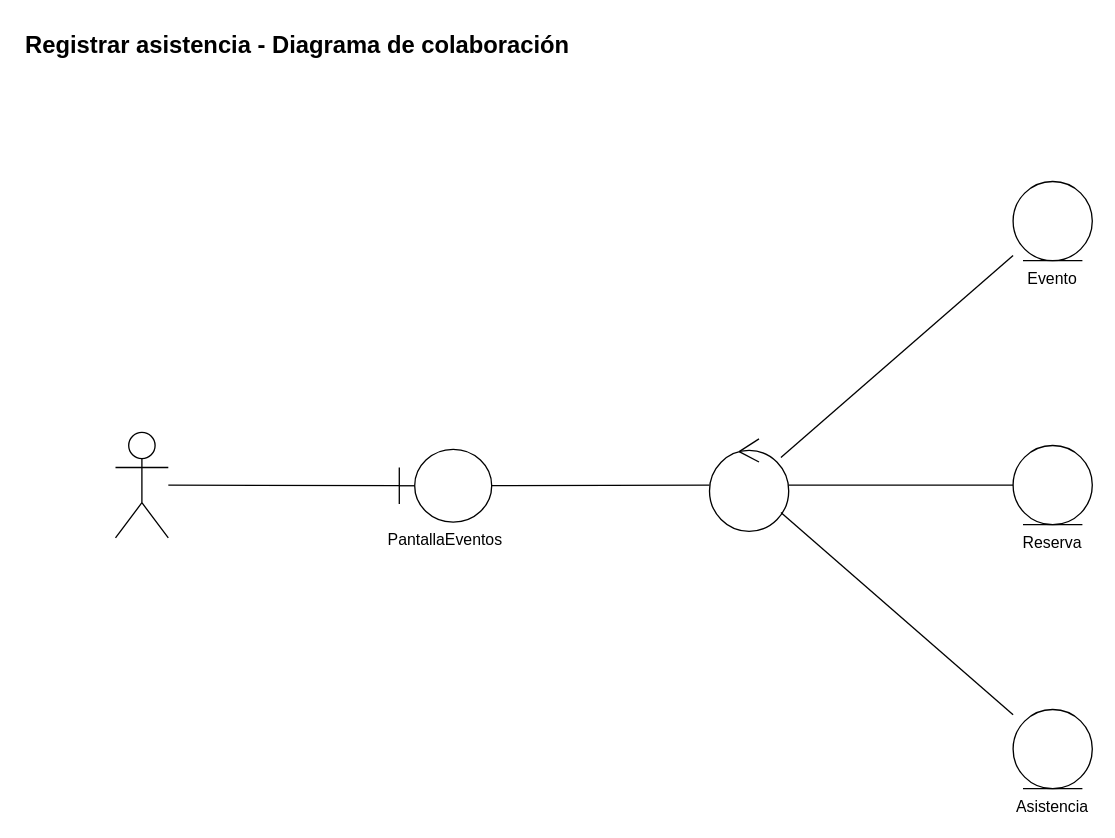
Image size: 1115x838. Some labels were removed from this diagram. The shapes that lost their labels are listed below. From the top down, each one's centre as x and y in pixels, then its label:
At (141,484): "Estudiante".
At (748,484): "GestiónAsistencia".
